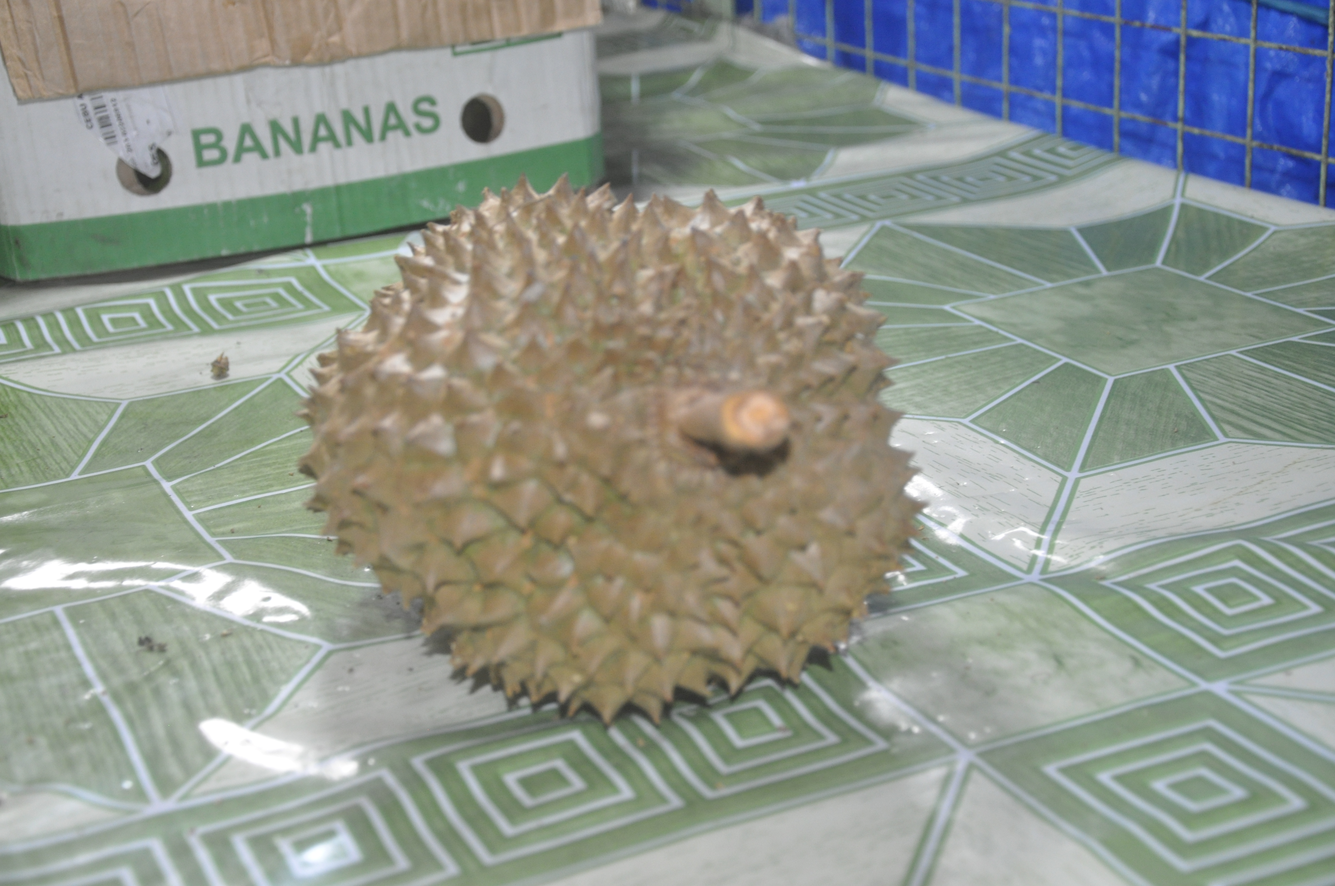mature: (301, 178, 921, 721)
